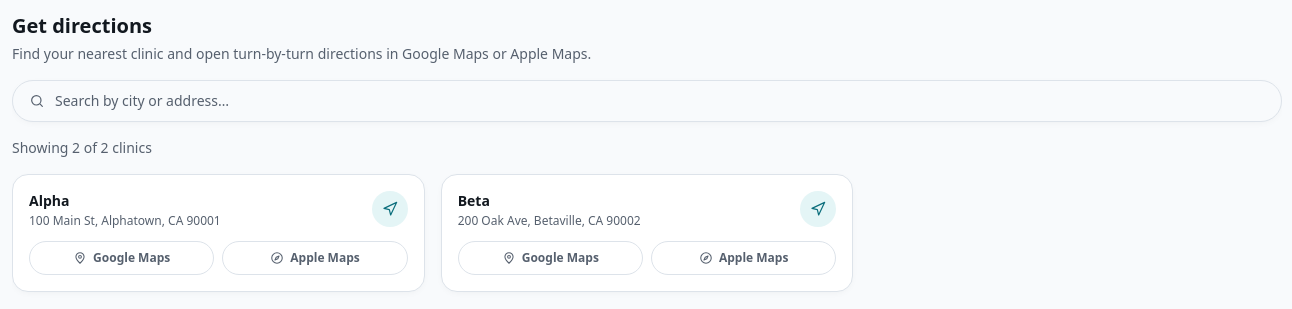
Scenario: LocationDirections › shows an empty state when nothing matches
Type "zzzzz" into the field named "Search clinics". click: (660, 101)
box: [55, 91, 1265, 111]
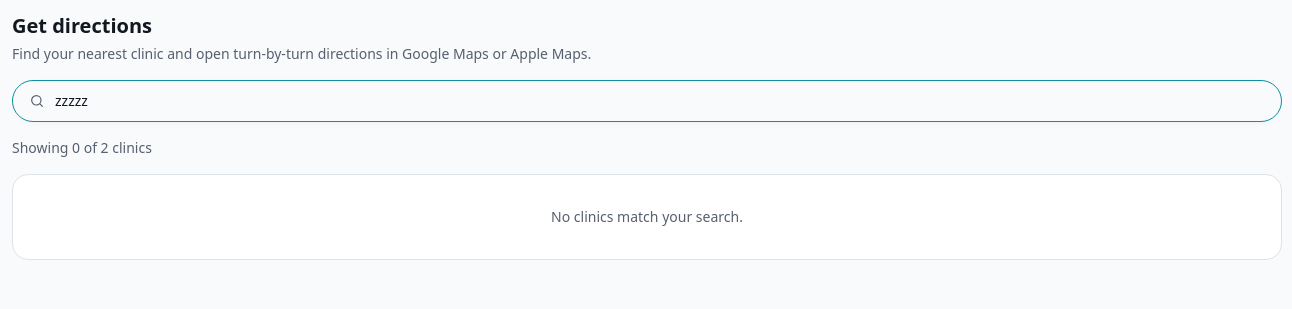
Expected: the text "No clinics match your search." is shown, [12, 174, 1282, 260]
Expected: the text "Showing 0 of 2 clinics" is shown, [12, 138, 152, 157]
